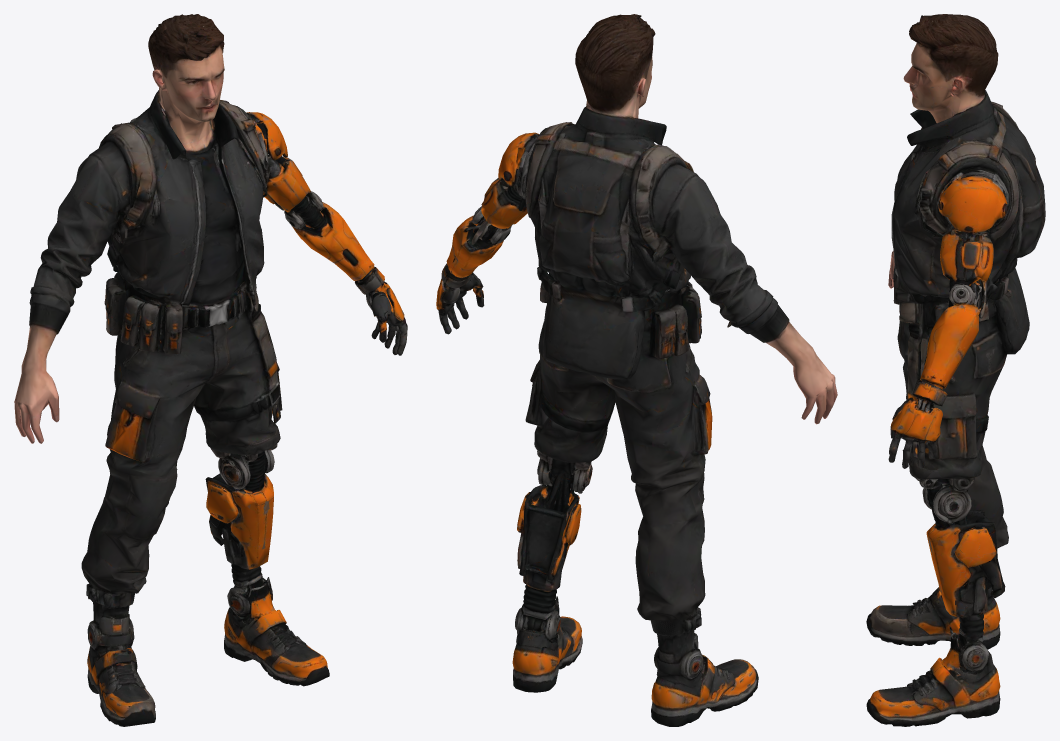
The model's file is cyborg.glb.
3 views of the same model, side by side, from view 1: azimuth 30°, elevation 25°; view 2: azimuth 150°, elevation 25°; view 3: azimuth 270°, elevation 25° (orthographic).
Visible parts, largest first — view 1: cyborg; view 2: cyborg; view 3: cyborg.
Part boxes in pixels (x1,y1,x2,y2): cyborg: (14,14,407,726); cyborg: (436,14,837,726); cyborg: (866,14,1045,726).
Size of the model in its own units: 1.09 by 1.8 by 0.4422.
1 material, 1 textured.
